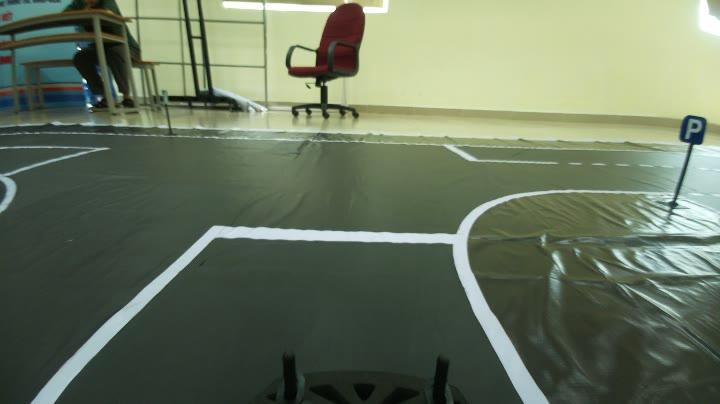parking: (678, 110, 710, 150)
